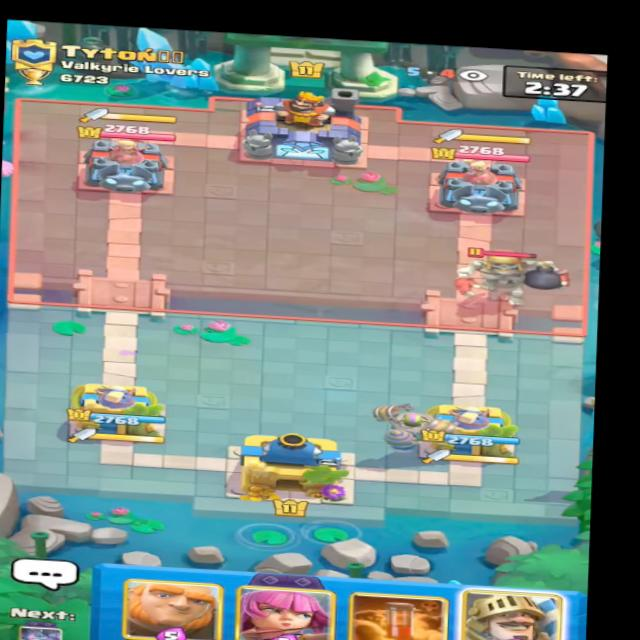giant-skeleton: (444, 235, 575, 305)
